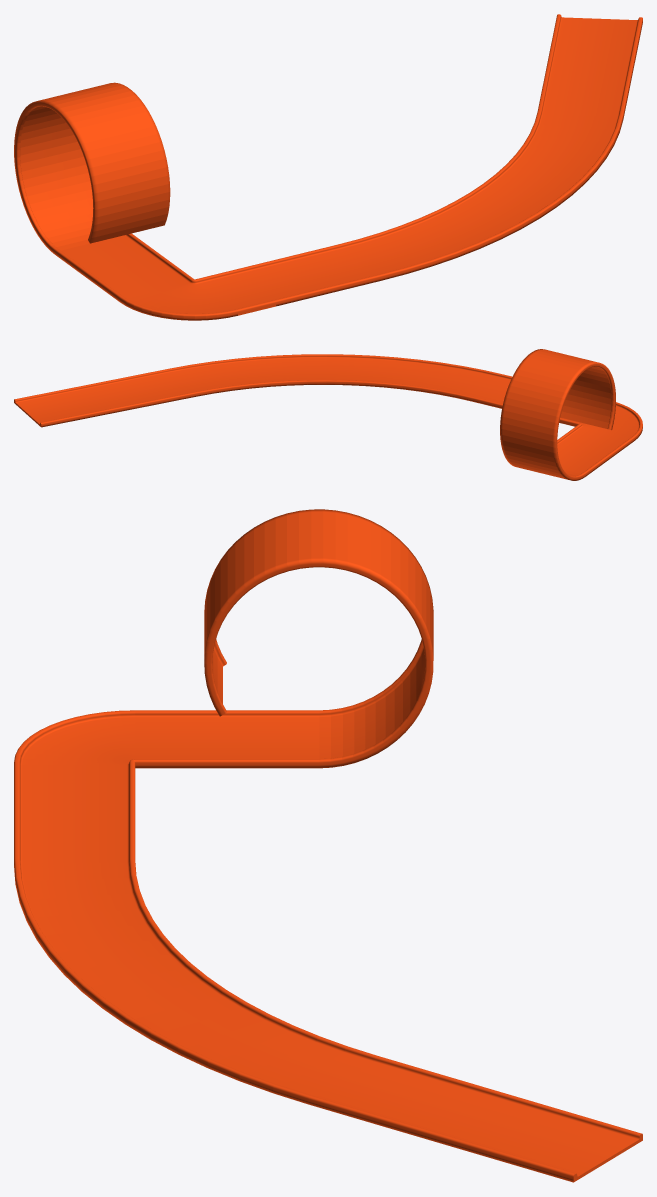
File: hotwheelsTrack.fbx
The picture shows the model from 3 angles, top to bottom: view 1: azimuth 30°, elevation 25°; view 2: azimuth 150°, elevation 25°; view 3: azimuth 270°, elevation 25°; orthographic projection. The views are drawn at different scales.
Parts seen in each view (by area): view 1: Cube; view 2: Cube; view 3: Cube.
Part boxes in pixels (left/top/right/bottom): Cube: left=14, top=14, right=642, bottom=320; Cube: left=14, top=349, right=642, bottom=480; Cube: left=14, top=509, right=642, bottom=1182.
Bounding box in the file's own units: 1507 × 314 × 861.
